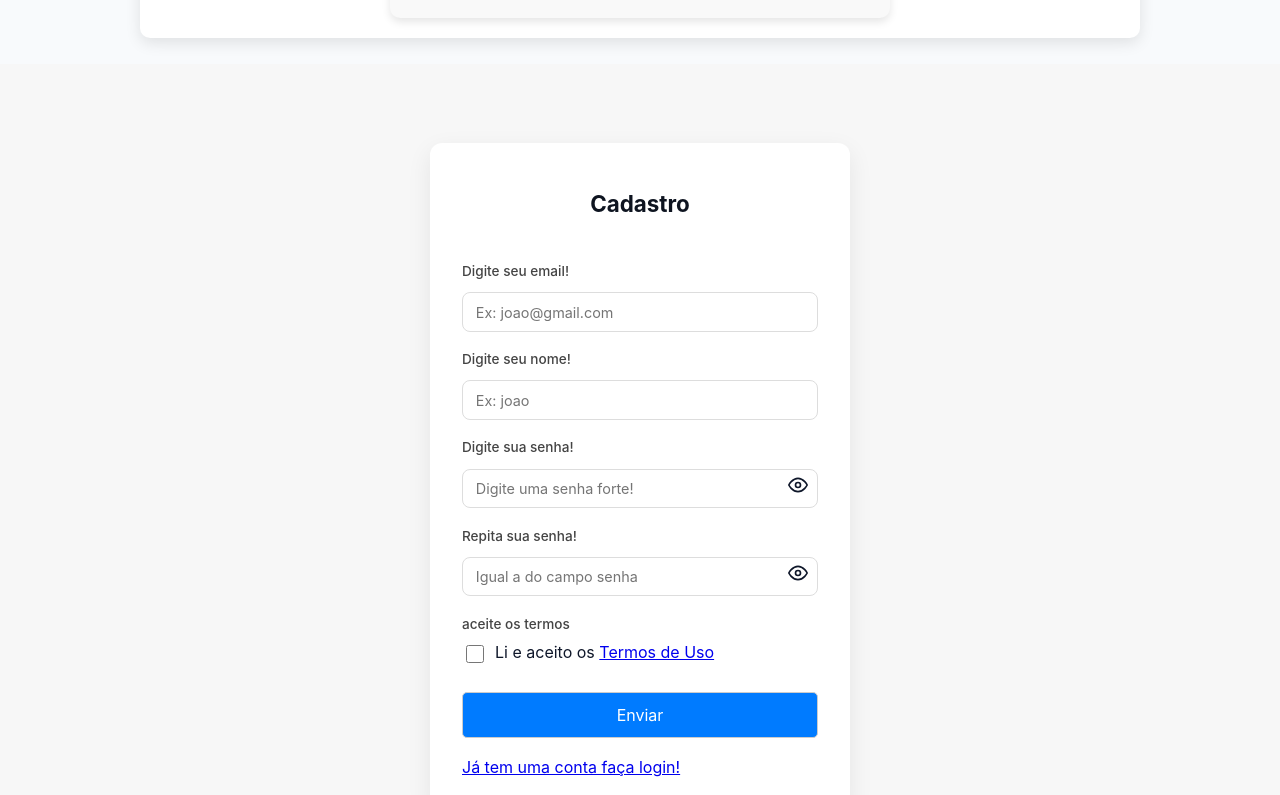
should handle service response › should display the success message when the service returns status 201
(page scrolled)
expect the field with placeholder "Ex: joao@gmail.com" is shown: met, box top-left (462, 292), bottom-right (818, 332)
Type "josef" into the field with placeholder "Ex: joao" at (640, 400), box top-left (462, 380), bottom-right (818, 420)
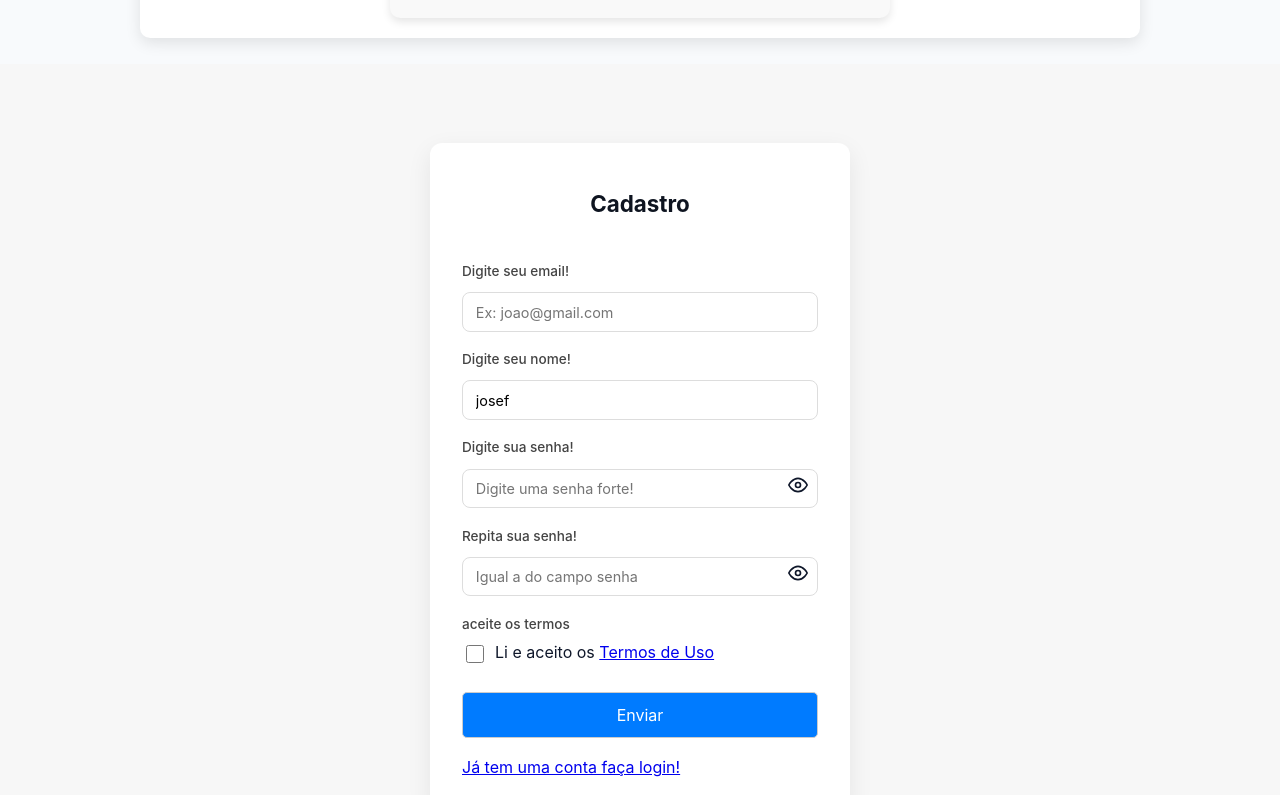
Type "lucas@gmail.com" into the field with placeholder "Ex: joao@gmail.com" at (640, 312), box top-left (462, 292), bottom-right (818, 332)
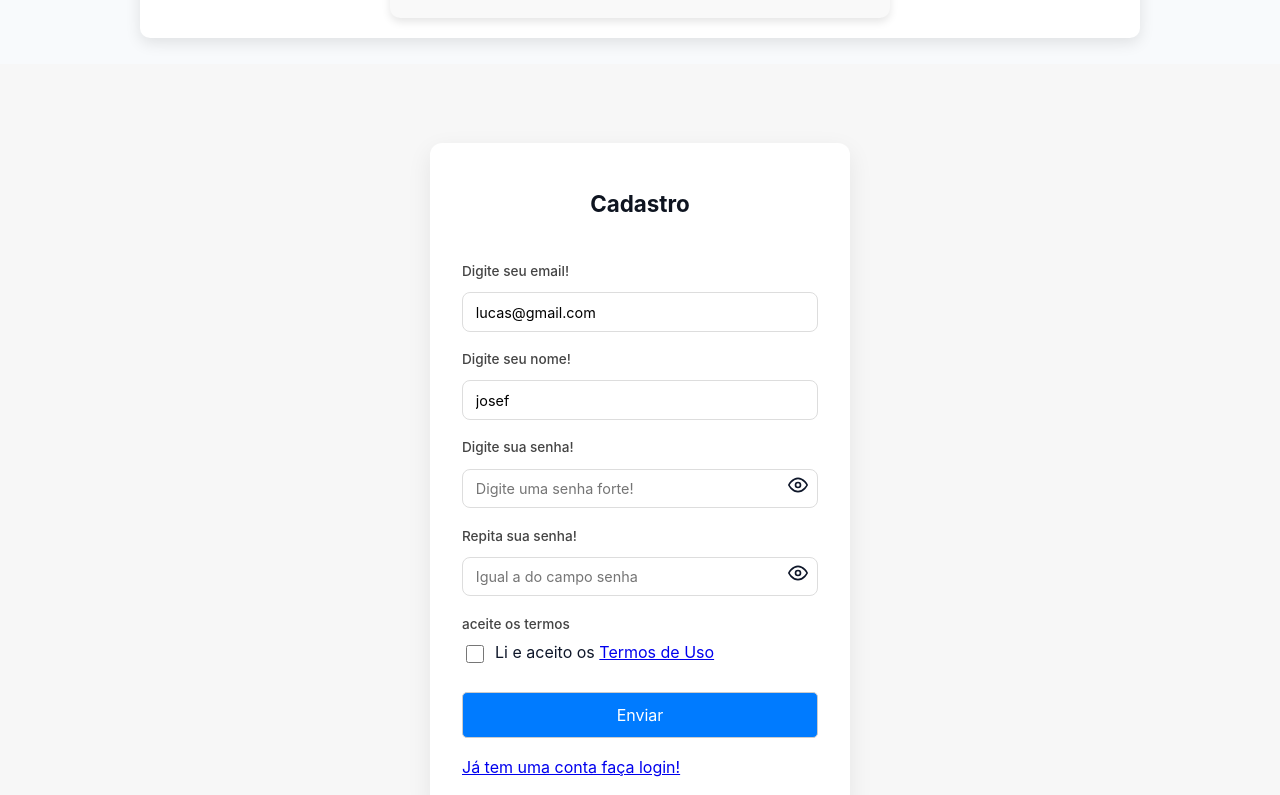
Type "123456" into the password field with placeholder "Digite uma senha forte!" at (640, 488), box top-left (462, 468), bottom-right (818, 508)
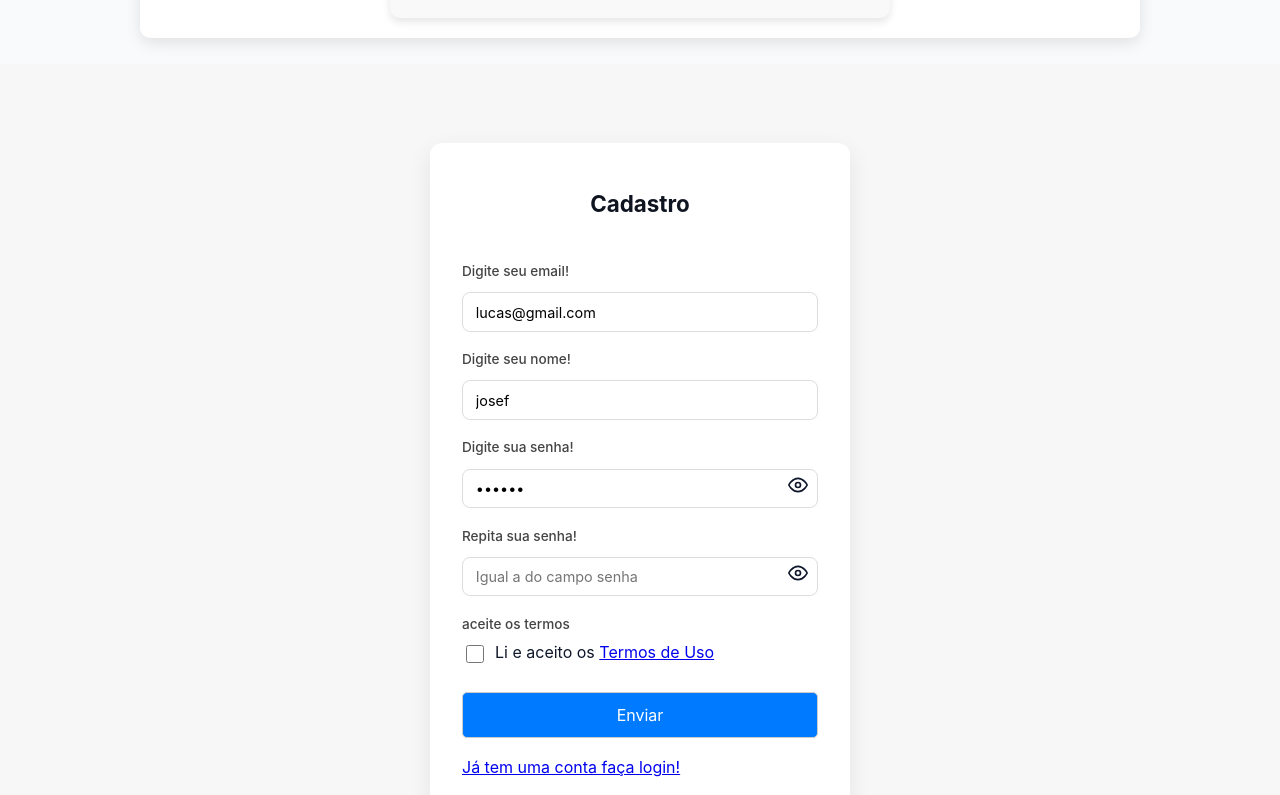
Type "123456" into the password field with placeholder "Igual a do campo senha" at (640, 576), box top-left (462, 557), bottom-right (818, 596)
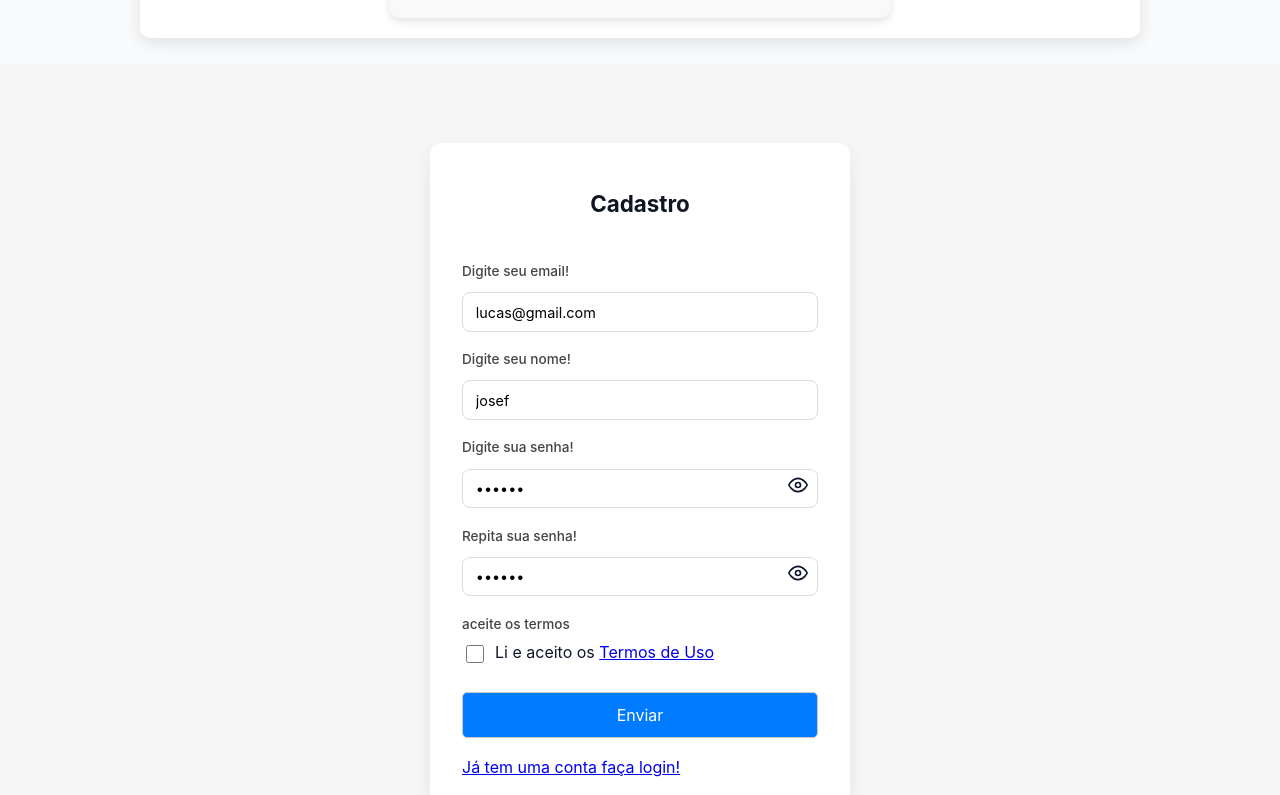
Click the checkbox at (475, 654), box top-left (466, 645), bottom-right (484, 663)
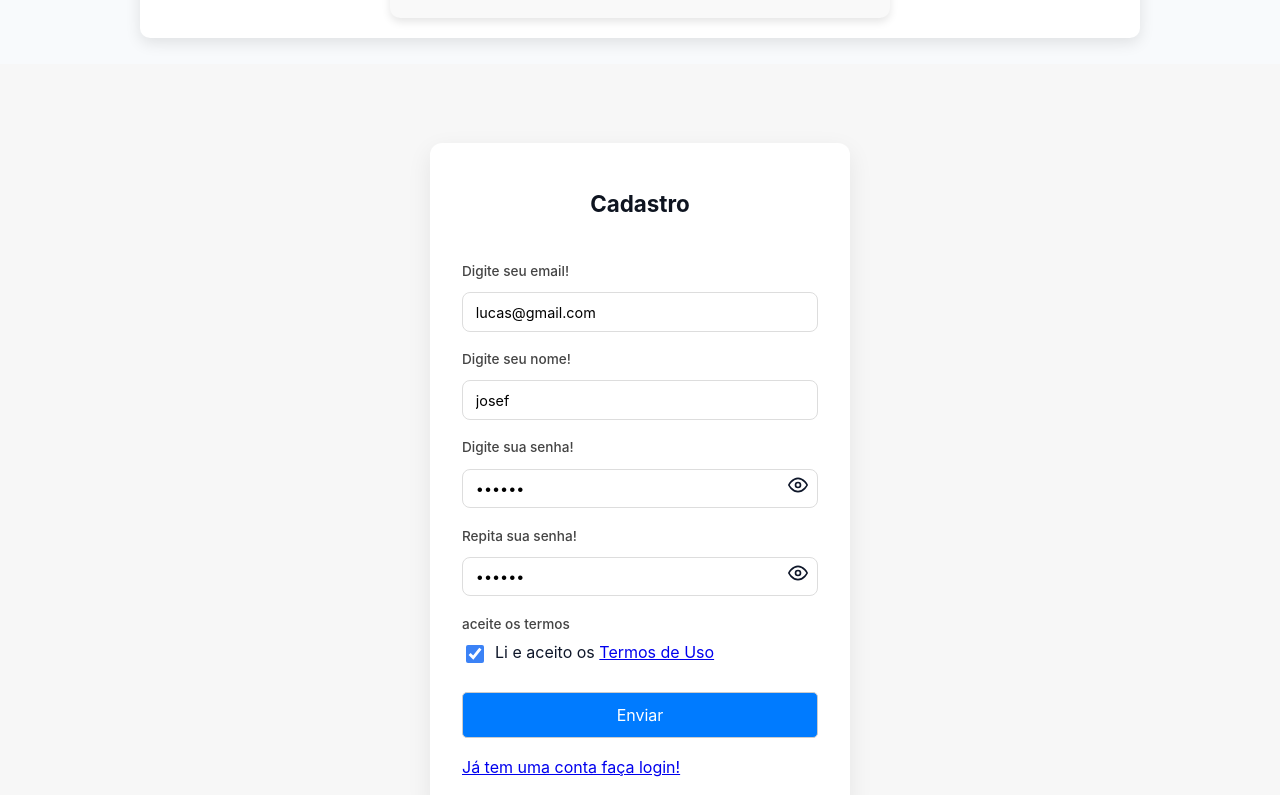
Click the button "Enviar" at (640, 715), box top-left (462, 692), bottom-right (818, 738)
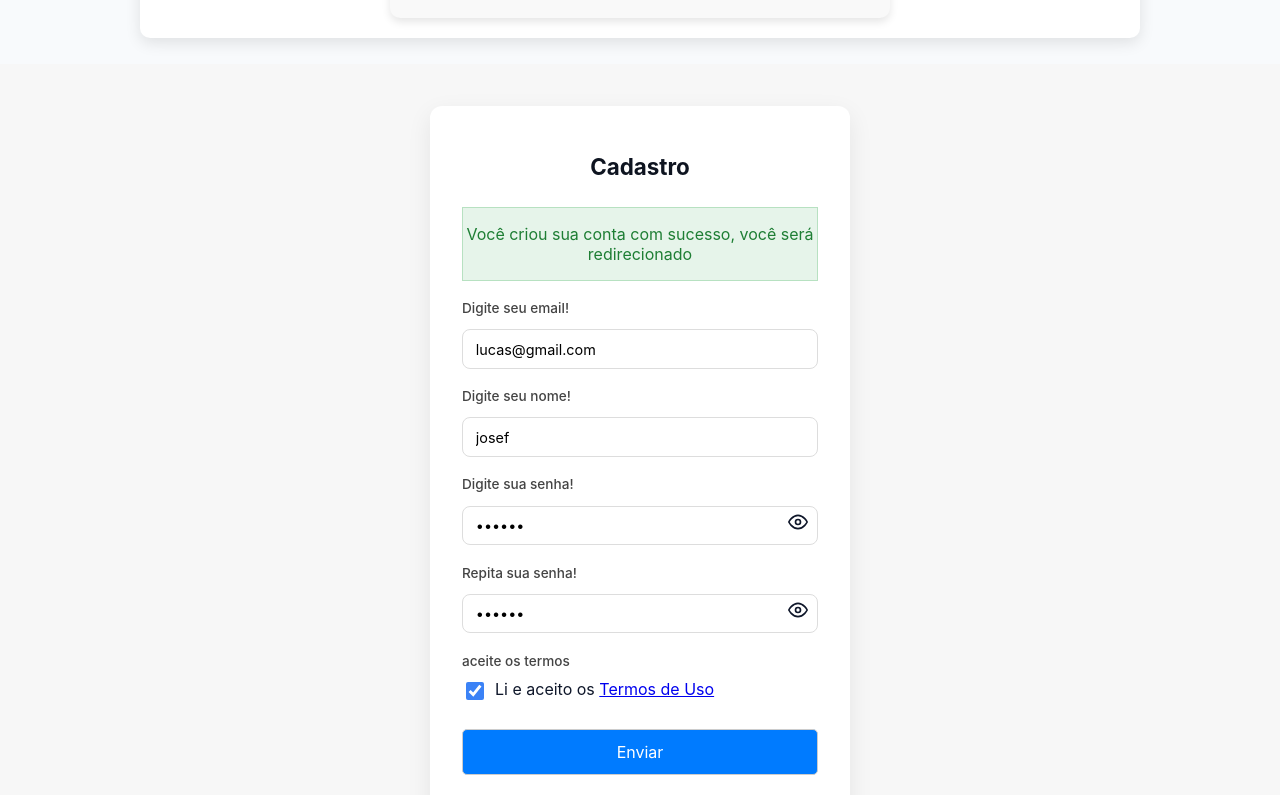
expect the text "Você criou sua conta com sucesso, você será redirecionado" is shown: met, box top-left (463, 224), bottom-right (817, 264)
